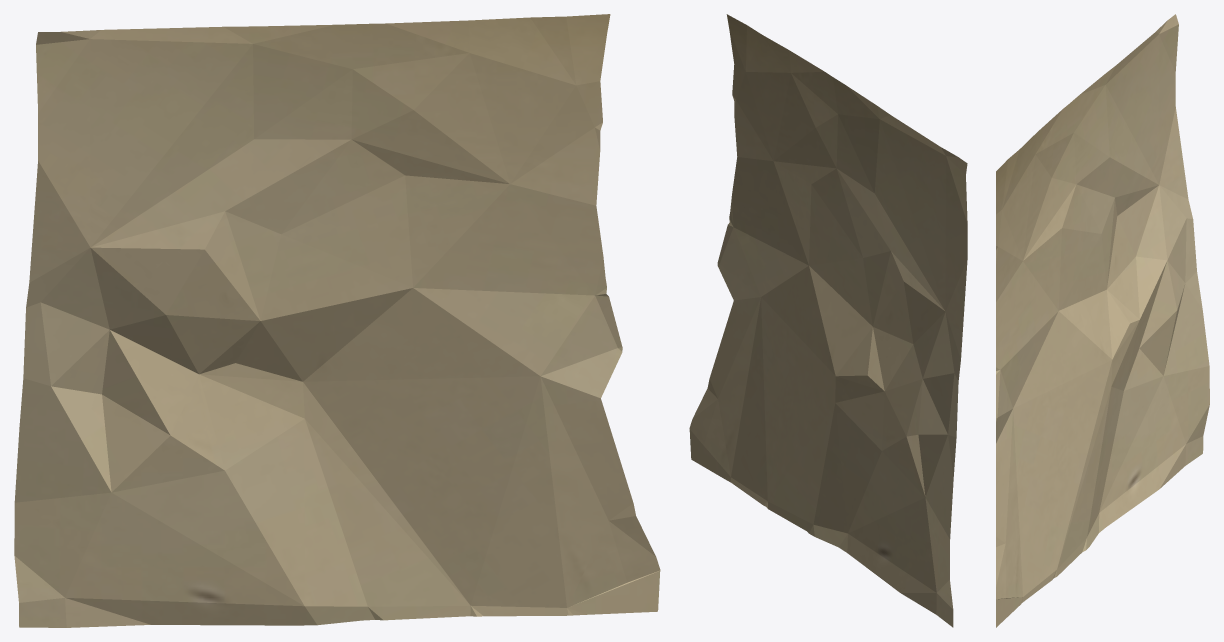
3 renders of one model, left to right at view 1: azimuth 30°, elevation 25°; view 2: azimuth 150°, elevation 25°; view 3: azimuth 270°, elevation 25°, orthographic. The views are drawn at different scales.
Bounding box in the file's own units: 0.7159 × 0.8374 × 0.3694.
Materials: 2 (2 with a texture image).
